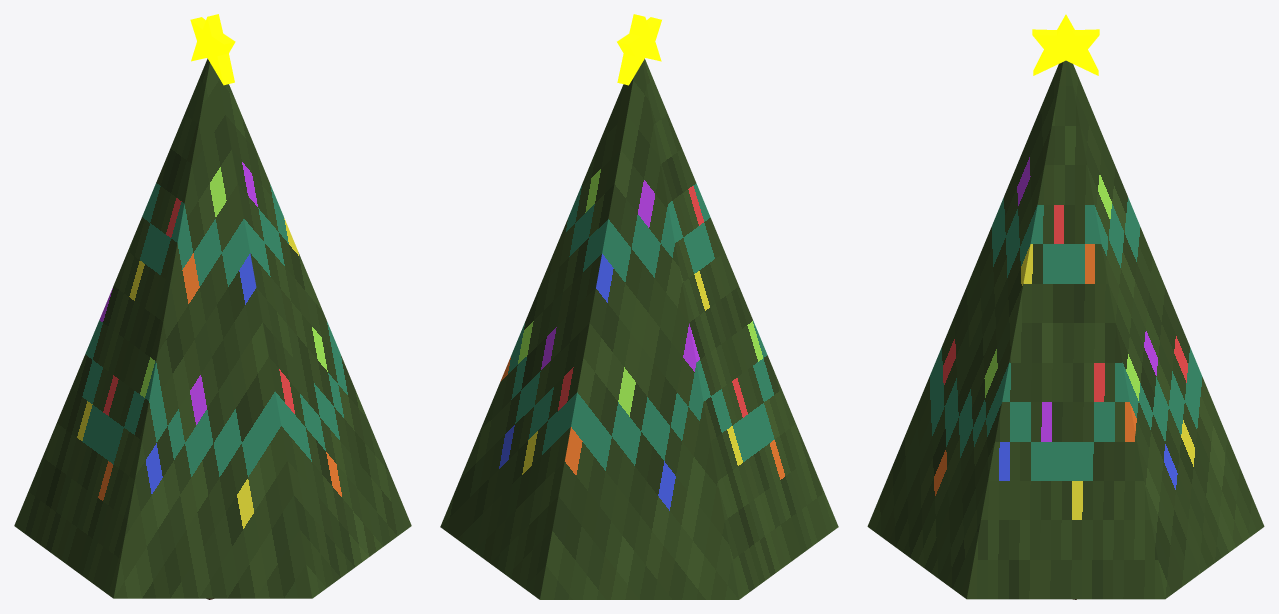
File: Tree.gltf
3 renders of one model, left to right at view 1: azimuth 30°, elevation 25°; view 2: azimuth 150°, elevation 25°; view 3: azimuth 270°, elevation 25°, orthographic.
Visible parts, largest first — view 1: Cone, Star; view 2: Cone, Star; view 3: Cone, Star.
Boxes of the visible parts, <box> form: Cone: <box>14,58,411,598</box>; Star: <box>190,14,235,85</box>; Cone: <box>440,59,838,599</box>; Star: <box>617,14,661,85</box>; Cone: <box>867,60,1264,599</box>; Star: <box>1032,14,1099,75</box>.
Size of the model in its own units: 1.04 by 1.9 by 1.2.
2 materials, 1 textured.
